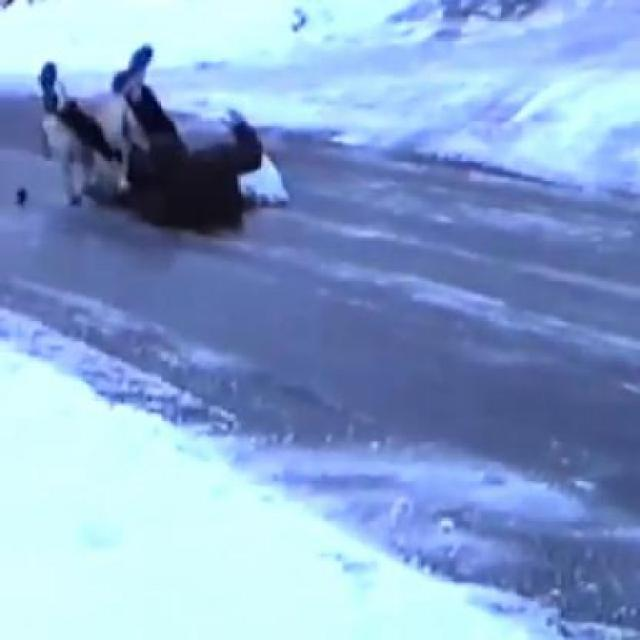fall: (36, 41, 276, 238)
